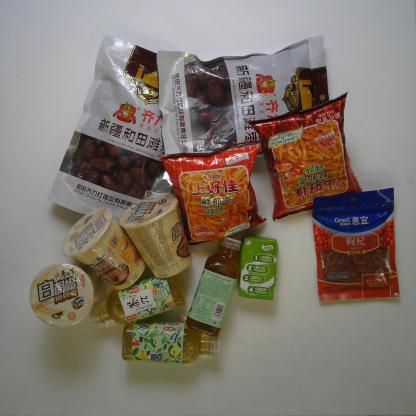Dried Food: (45, 33, 208, 234), (154, 33, 338, 169)
Dried Fruit: (311, 188, 401, 304)
Drink: (184, 236, 244, 336), (88, 274, 183, 322), (119, 324, 222, 366)
Instant Noodles: (60, 207, 146, 290), (120, 193, 193, 278), (28, 262, 93, 328)
Milk: (237, 236, 279, 300)
Puffed Food: (249, 92, 363, 222), (159, 138, 266, 247)
